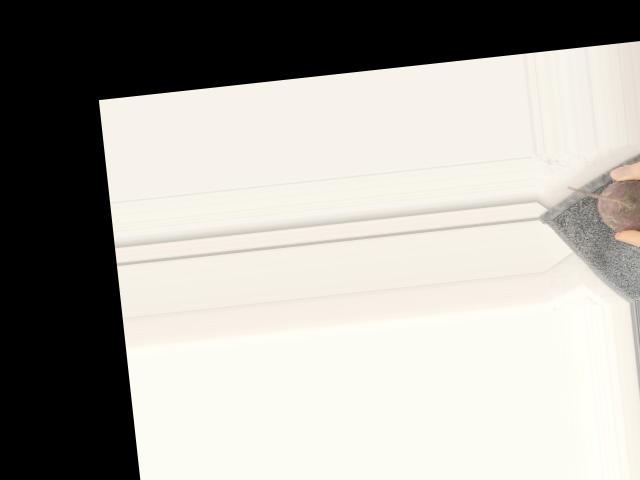beet: (566, 175, 640, 238)
